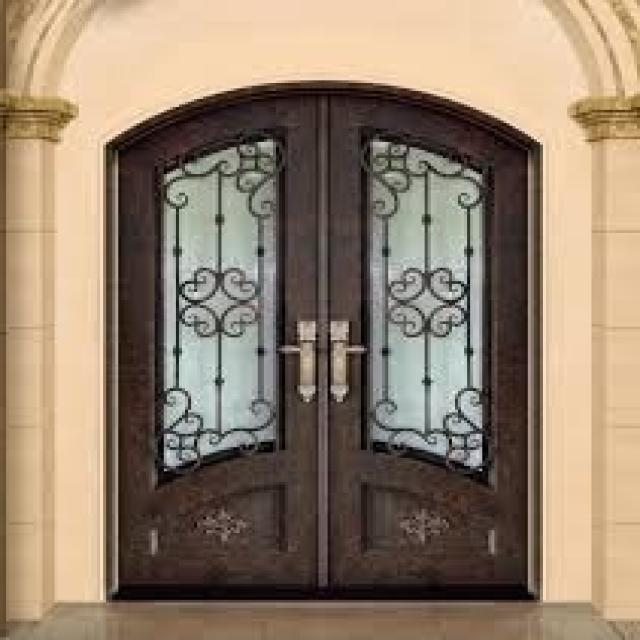door: (104, 79, 542, 601)
